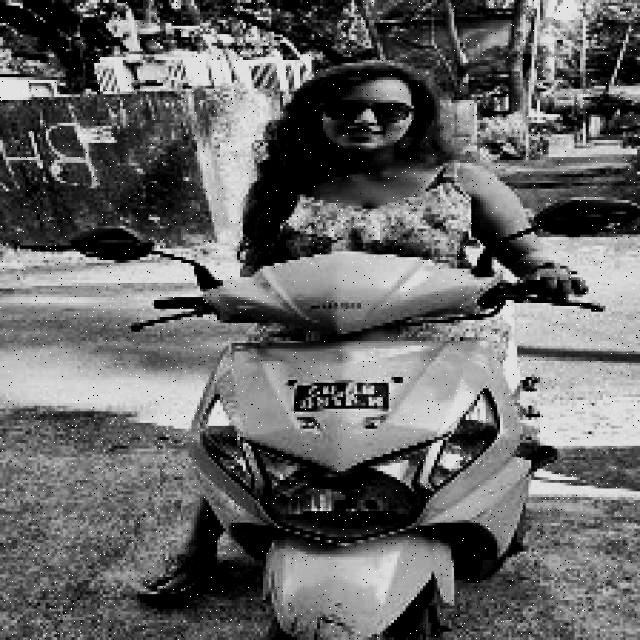Bike: (178, 257, 580, 637)
